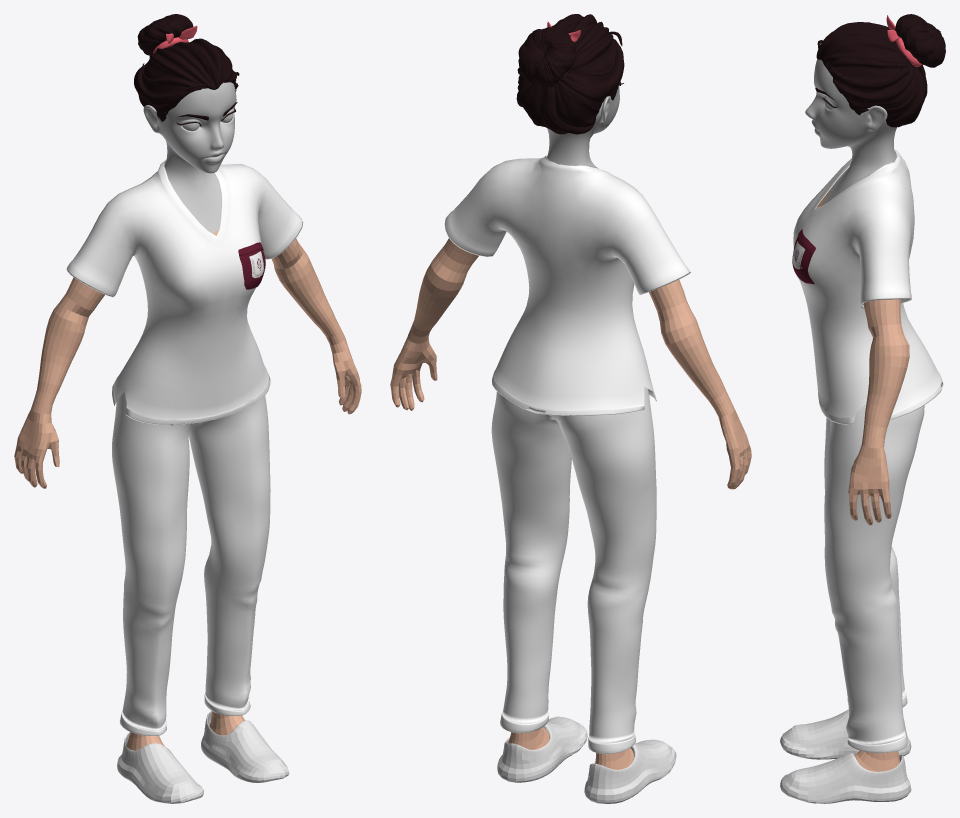
Rendered from ENFERMERA.fbx.
3 renders of one model, left to right at view 1: azimuth 30°, elevation 25°; view 2: azimuth 150°, elevation 25°; view 3: azimuth 270°, elevation 25°, orthographic. The views are drawn at different scales.
Visible parts, largest first — view 1: Pantalon_low, camisa_low, Body_low, Face_low, Zapatos_low, Base_head_low.001, Bollo_low, Bolsillo; view 2: Pantalon_low, camisa_low, Body_low, Base_head_low.001, Zapatos_low, Bollo_low, Face_low; view 3: camisa_low, Pantalon_low, Body_low, Base_head_low.001, Zapatos_low, Face_low, Bollo_low, Bolsillo, Moña.
Part boxes in pixels (box(x1,y1,x2,y2)): Pantalon_low: box(112, 362, 270, 735); camisa_low: box(66, 159, 303, 425); Body_low: box(14, 229, 361, 750); Face_low: box(143, 82, 236, 233); Zapatos_low: box(117, 711, 289, 803); Base_head_low.001: box(134, 38, 239, 121); Bollo_low: box(137, 14, 193, 55); Bolsillo: box(238, 242, 265, 289); Pantalon_low: box(491, 386, 656, 754); camisa_low: box(444, 155, 690, 415); Body_low: box(390, 238, 751, 769); Base_head_low.001: box(516, 14, 624, 134); Zapatos_low: box(497, 716, 676, 803); Bollo_low: box(518, 27, 576, 87); Face_low: box(547, 82, 620, 168); camisa_low: box(793, 149, 943, 424); Pantalon_low: box(824, 404, 924, 752); Body_low: box(816, 185, 909, 771); Base_head_low.001: box(816, 22, 927, 127); Zapatos_low: box(780, 709, 911, 803); Face_low: box(805, 59, 896, 204); Bollo_low: box(895, 14, 945, 67); Bolsillo: box(792, 229, 815, 284); Moña: box(886, 15, 922, 66).
Size of the model in its own units: 244 by 511 by 102.
